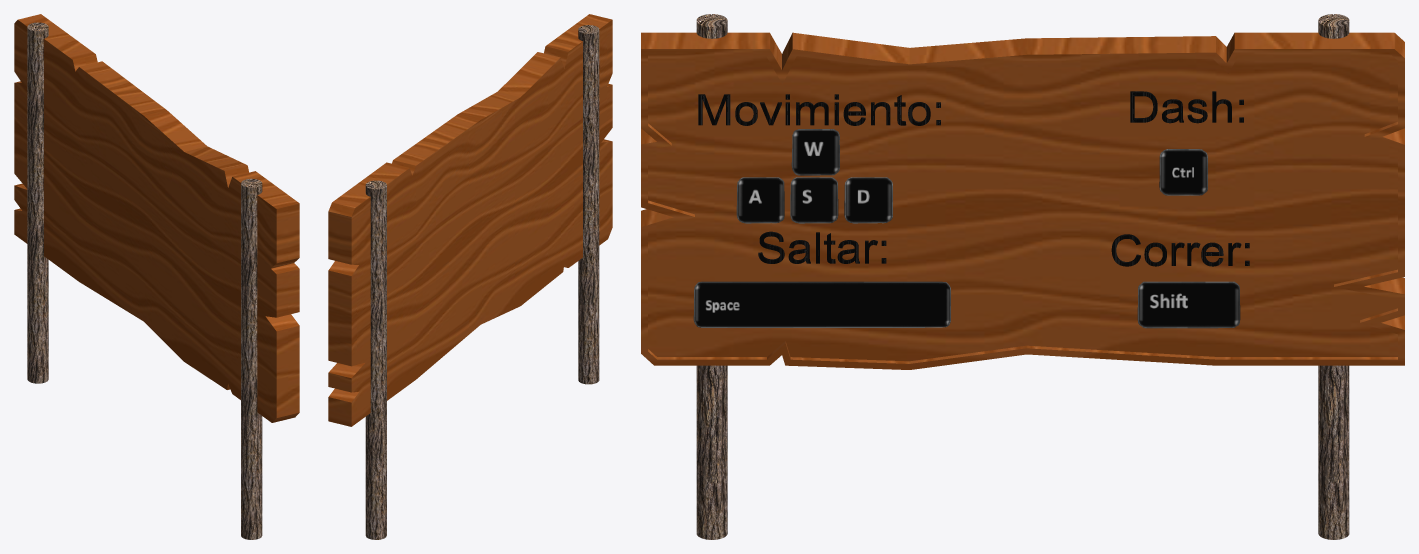
The model's file is CartelMov.FBX.
3 views of the same model, side by side, from view 1: azimuth 30°, elevation 25°; view 2: azimuth 150°, elevation 25°; view 3: azimuth 270°, elevation 25° (orthographic). The views are drawn at different scales.
Visible parts, largest first — view 1: CartelMov; view 2: CartelMov; view 3: CartelMov, LetrasMov.
Part boxes in pixels (left/top/right/bottom): CartelMov: left=14, top=14, right=299, bottom=539; CartelMov: left=328, top=14, right=612, bottom=539; CartelMov: left=641, top=14, right=1404, bottom=539; LetrasMov: left=698, top=91, right=1249, bottom=266.
Bounding box in the file's own units: 107 × 1092 × 1474.
Materials: 7 (7 with a texture image).
